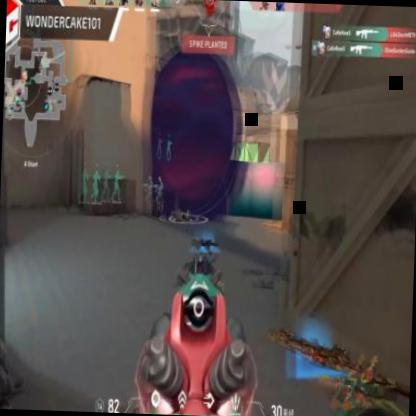enemy: (154, 176, 165, 217)
enemy_head: (158, 177, 162, 185)
